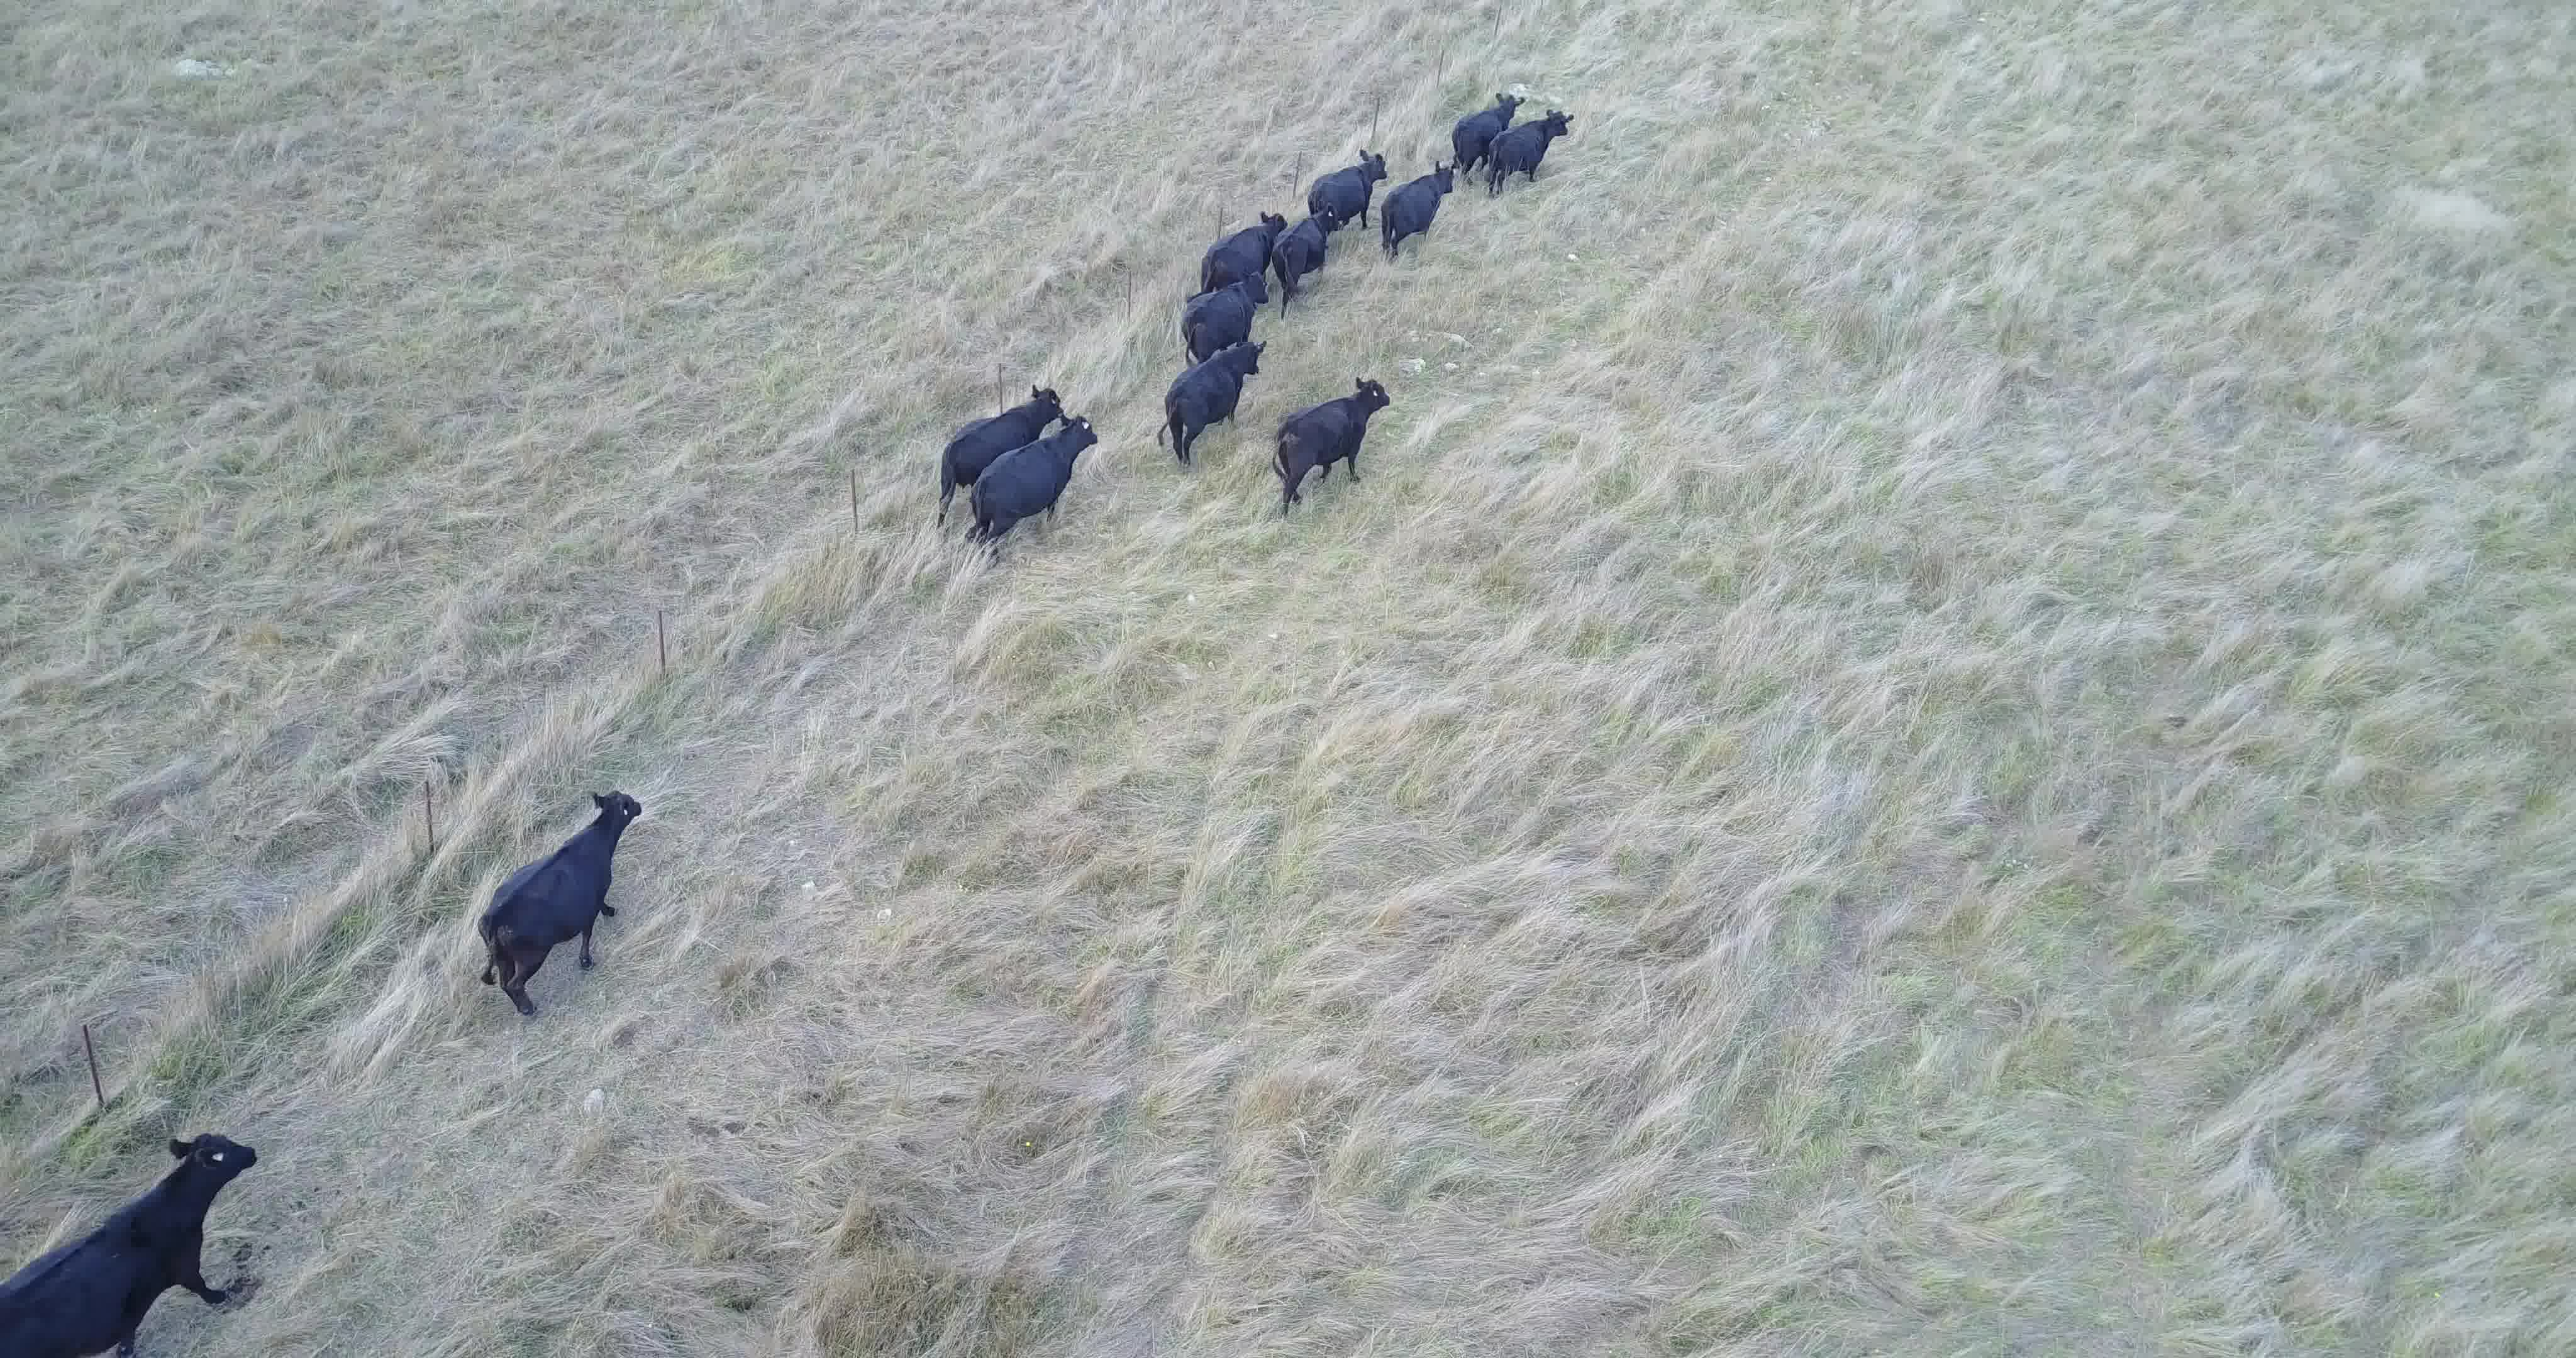cattle: (0, 1116, 259, 1358), (455, 787, 647, 1007), (1264, 377, 1399, 518), (971, 412, 1101, 549), (1160, 339, 1271, 465), (930, 383, 1065, 455), (1373, 160, 1460, 264), (1172, 271, 1276, 356), (1194, 210, 1288, 296), (1271, 204, 1341, 317), (1302, 147, 1387, 237), (1487, 109, 1573, 198), (1445, 90, 1523, 160)
